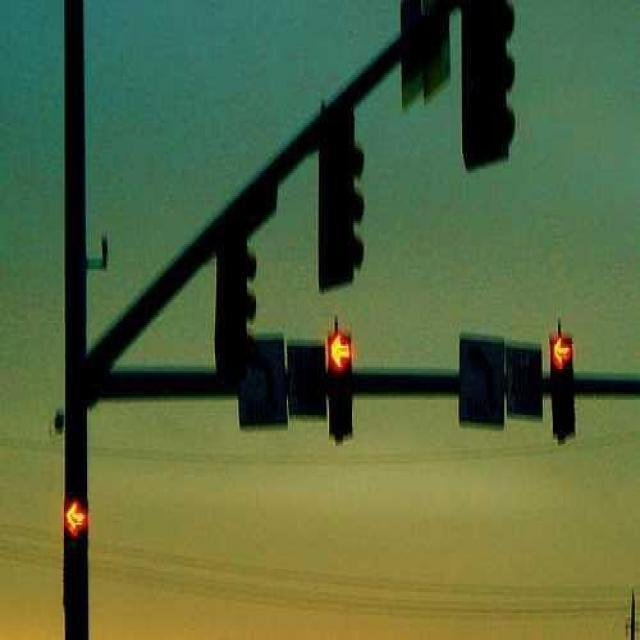red_light: (544, 328, 580, 443), (61, 498, 91, 602), (328, 330, 354, 440), (62, 498, 88, 538), (549, 331, 574, 372), (329, 332, 352, 370)
